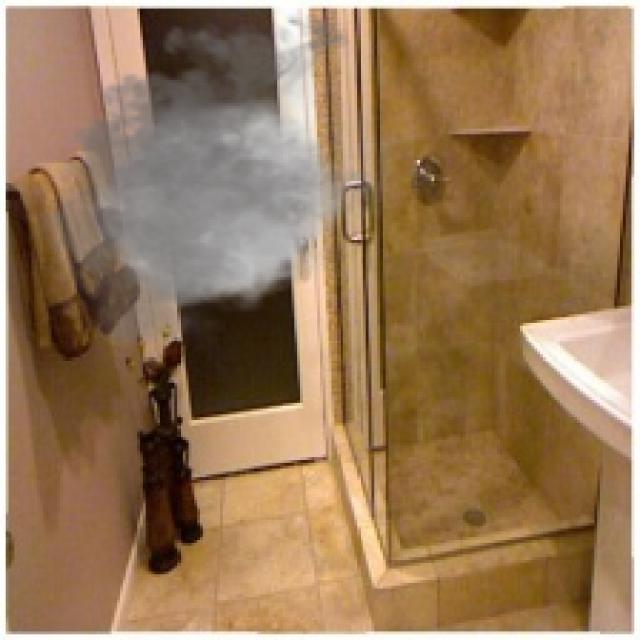smoke: (20, 3, 414, 360)
